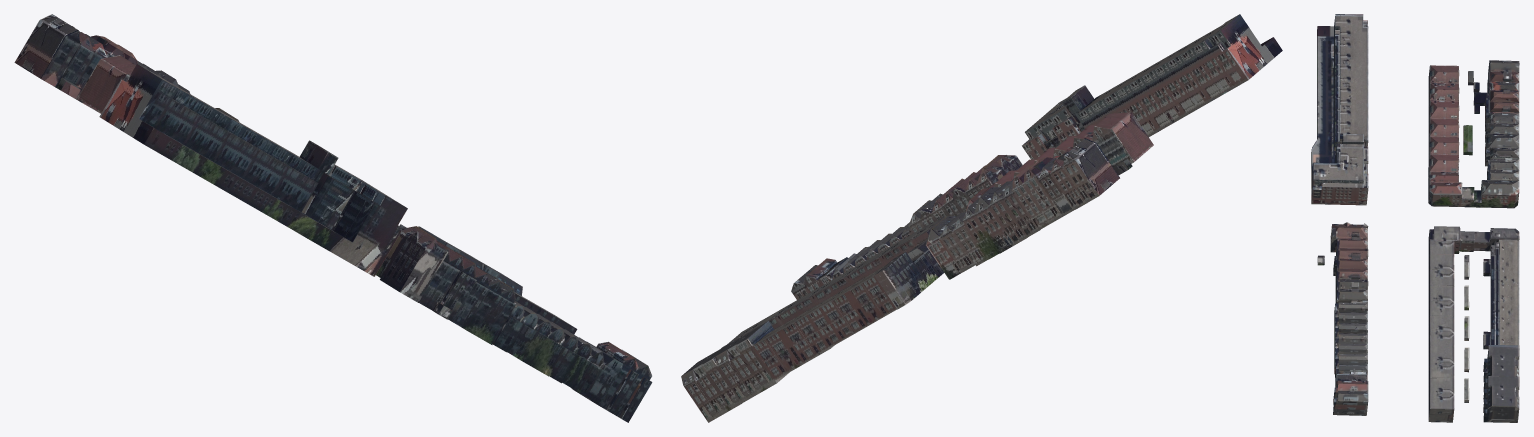
The model's file is 17-134309-27737-0-tex1024.glb.
The picture shows the model from 3 angles, left to right: view 1: azimuth 30°, elevation 25°; view 2: azimuth 150°, elevation 25°; view 3: azimuth 270°, elevation 25°; orthographic projection. The views are drawn at different scales.
Visible parts, largest first — view 1: BAG_0599100000750628, BAG_0599100000688739, BAG_0599100000600907, BAG_0599100000760399, BAG_0599100000675902, BAG_0599100000760665, BAG_0599100000675893, BAG_0599100000675903, BAG_0599100000760663, BAG_0599100000675900, BAG_0599100000675892, BAG_0599100000675897 (+8 smaller); view 2: BAG_0599100000750628, BAG_0599100000760423, BAG_0599100000760424, BAG_0599100000688762, BAG_0599100000688764, BAG_0599100000760399, BAG_0599100000760421, BAG_0599100000688739, BAG_0599100000688745, BAG_0599100000688750, BAG_0599100000701140, BAG_0599100000688748 (+6 smaller); view 3: BAG_0599100000750628, BAG_0599100000760423, BAG_0599100000688764, BAG_0599100000760424, BAG_0599100000701140, BAG_0599100000688762, BAG_0599100000675889, BAG_0599100000675903, BAG_0599100000688745, BAG_0599100000760438, BAG_0599100000760421, BAG_0599100000760400 (+44 smaller).
Part boxes in pixels (<box>): BAG_0599100000750628: <box>99,64,407,276</box>; BAG_0599100000688739: <box>14,14,79,86</box>; BAG_0599100000600907: <box>380,229,448,302</box>; BAG_0599100000760399: <box>77,55,135,113</box>; BAG_0599100000675902: <box>571,341,638,414</box>; BAG_0599100000760665: <box>427,240,466,310</box>; BAG_0599100000675893: <box>478,276,515,344</box>; BAG_0599100000675903: <box>615,349,652,422</box>; BAG_0599100000760663: <box>452,266,489,329</box>; BAG_0599100000675900: <box>572,337,613,398</box>; BAG_0599100000675892: <box>463,266,501,337</box>; BAG_0599100000675897: <box>534,314,565,376</box>; BAG_0599100000750628: <box>1022,14,1282,159</box>; BAG_0599100000760423: <box>808,267,896,347</box>; BAG_0599100000760424: <box>752,303,834,380</box>; BAG_0599100000688762: <box>715,321,789,403</box>; BAG_0599100000688764: <box>681,341,741,422</box>; BAG_0599100000760399: <box>1092,112,1153,166</box>; BAG_0599100000760421: <box>874,252,939,309</box>; BAG_0599100000688739: <box>1063,138,1119,202</box>; BAG_0599100000688745: <box>1012,157,1063,229</box>; BAG_0599100000688750: <box>973,187,1015,253</box>; BAG_0599100000701140: <box>925,216,962,279</box>; BAG_0599100000688748: <box>989,181,1027,244</box>; BAG_0599100000750628: <box>1311,14,1368,205</box>; BAG_0599100000760423: <box>1483,239,1519,308</box>; BAG_0599100000688764: <box>1483,376,1519,422</box>; BAG_0599100000760424: <box>1483,298,1519,349</box>; BAG_0599100000701140: <box>1473,180,1519,208</box>; BAG_0599100000688762: <box>1483,345,1519,391</box>; BAG_0599100000675889: <box>1428,181,1466,207</box>; BAG_0599100000675903: <box>1333,391,1368,415</box>; BAG_0599100000688745: <box>1485,89,1519,124</box>; BAG_0599100000760438: <box>1428,393,1454,422</box>; BAG_0599100000760421: <box>1473,228,1519,251</box>; BAG_0599100000760400: <box>1428,100,1459,127</box>.
Bounding box in the file's own units: 146 × 123 × 83.95.
2 materials, 1 textured.
